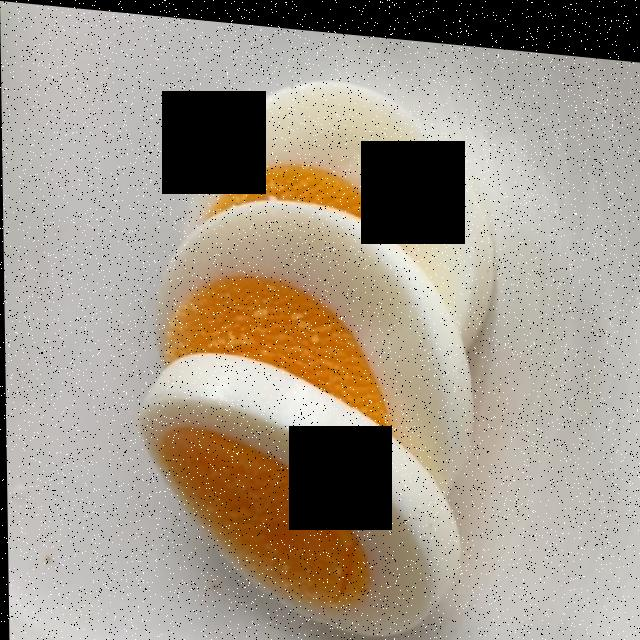egg: (133, 51, 490, 625)
